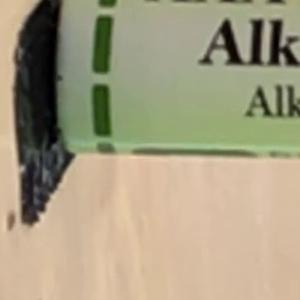ALK: (189, 8, 275, 76)
